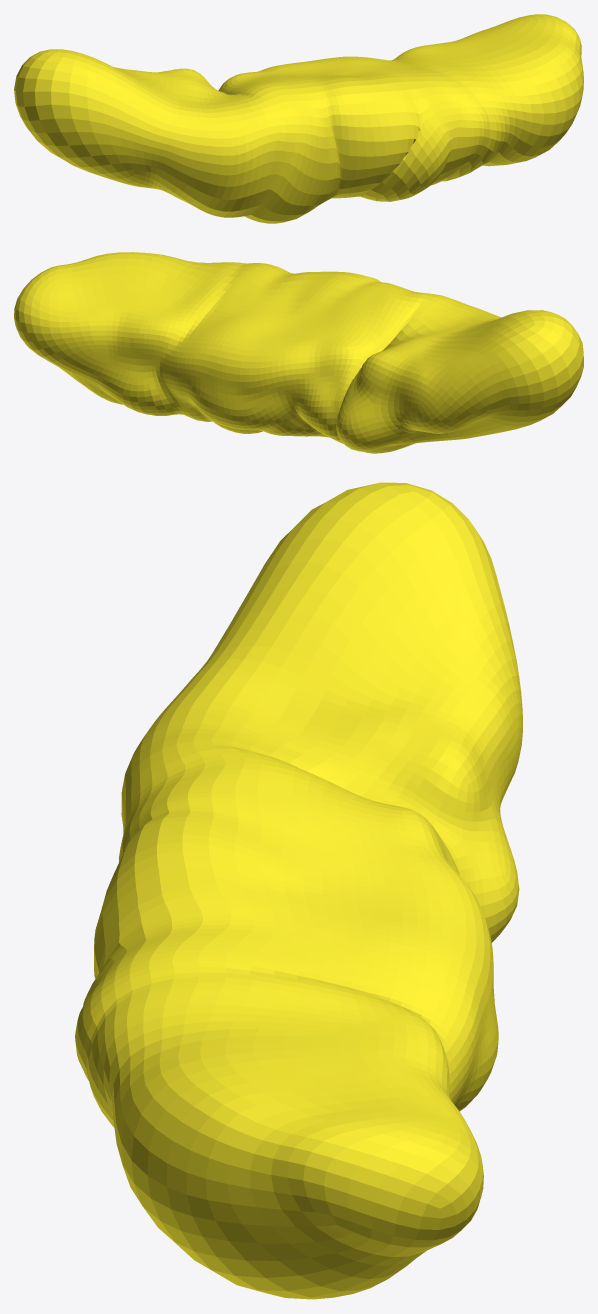
The model's file is large-intestine-female.glb.
3 renders of one model, top to bottom at view 1: azimuth 30°, elevation 25°; view 2: azimuth 150°, elevation 25°; view 3: azimuth 270°, elevation 25°, orthographic. The views are drawn at different scales.
Visible parts, largest first — view 1: VH_F_epiploic_appendage_of_transverse_colon; view 2: VH_F_epiploic_appendage_of_transverse_colon; view 3: VH_F_epiploic_appendage_of_transverse_colon.
Boxes of the visible parts, x1,y1,x2,y2 form: VH_F_epiploic_appendage_of_transverse_colon: (14,14,583,223); VH_F_epiploic_appendage_of_transverse_colon: (14,252,583,453); VH_F_epiploic_appendage_of_transverse_colon: (75,482,522,1299).
Size of the model in its own units: 0.0697 by 0.0235 by 0.0247.
